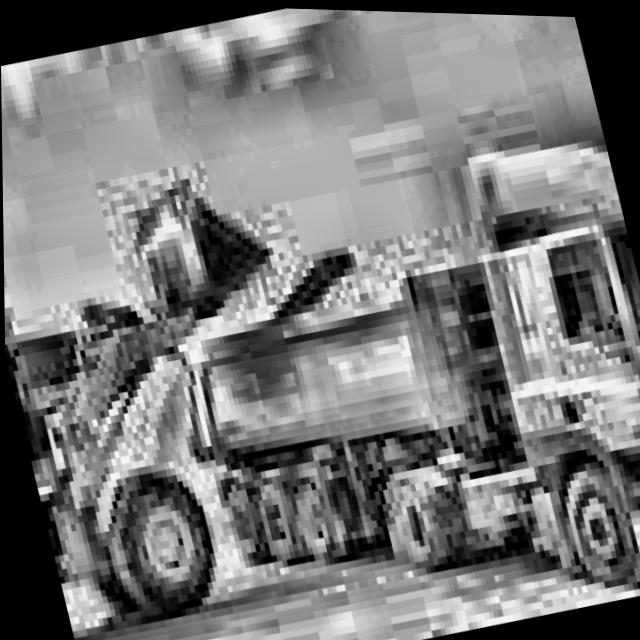dump_truck: (136, 95, 640, 640)
